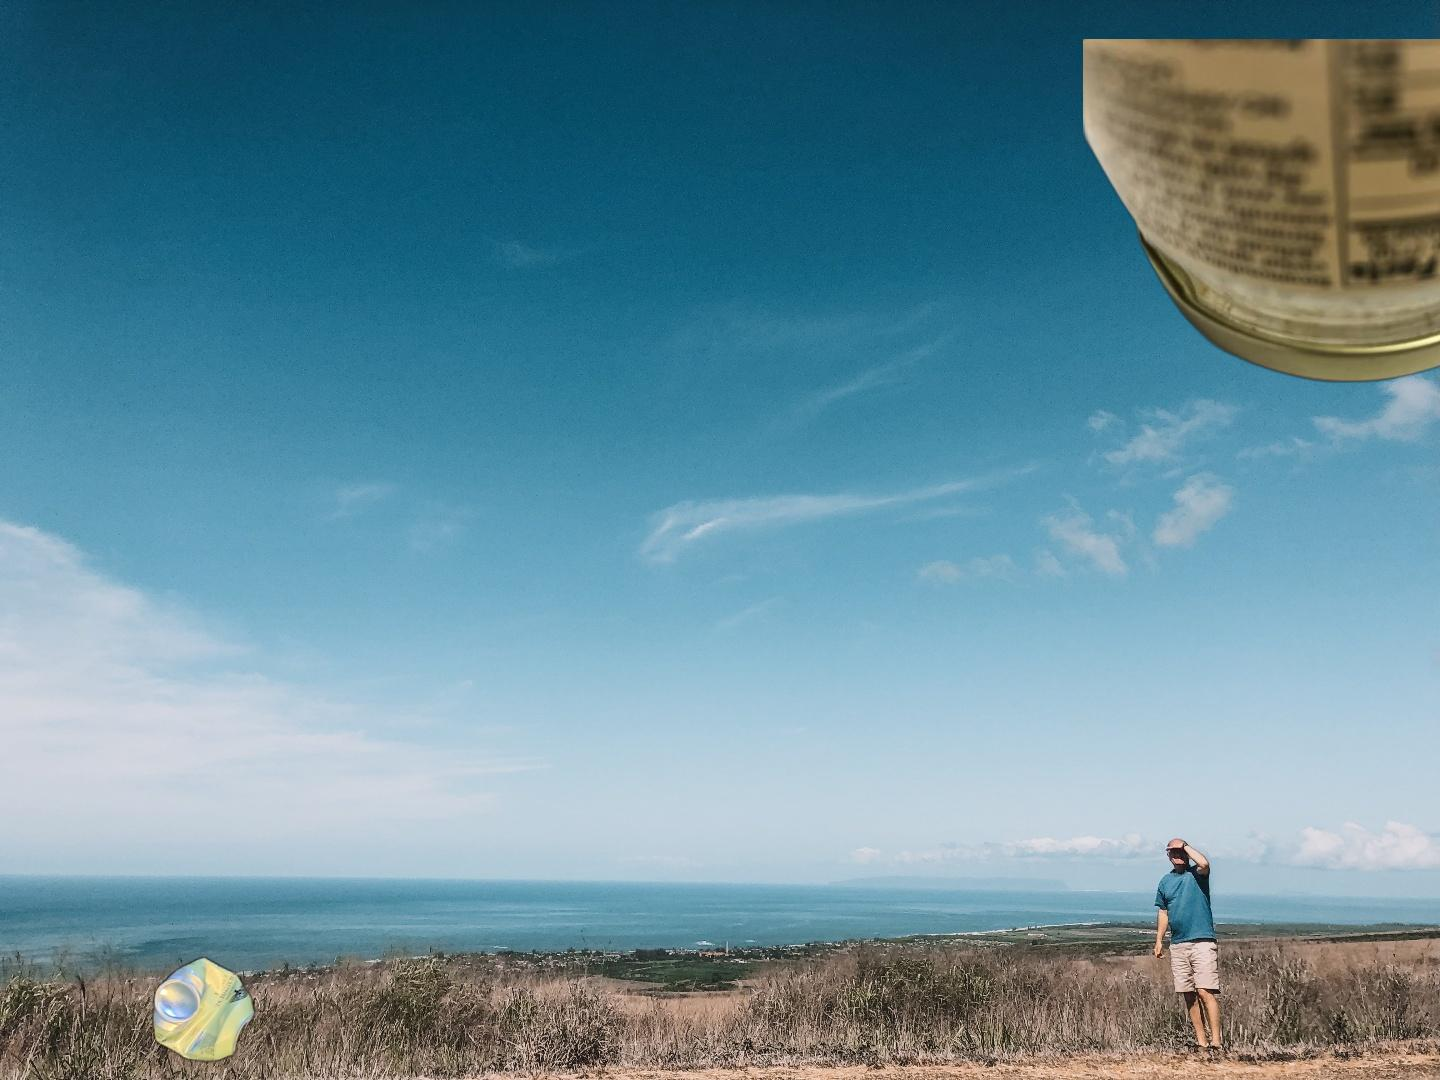glass: (1083, 39, 1440, 386)
metal-cans: (149, 951, 260, 1069)
